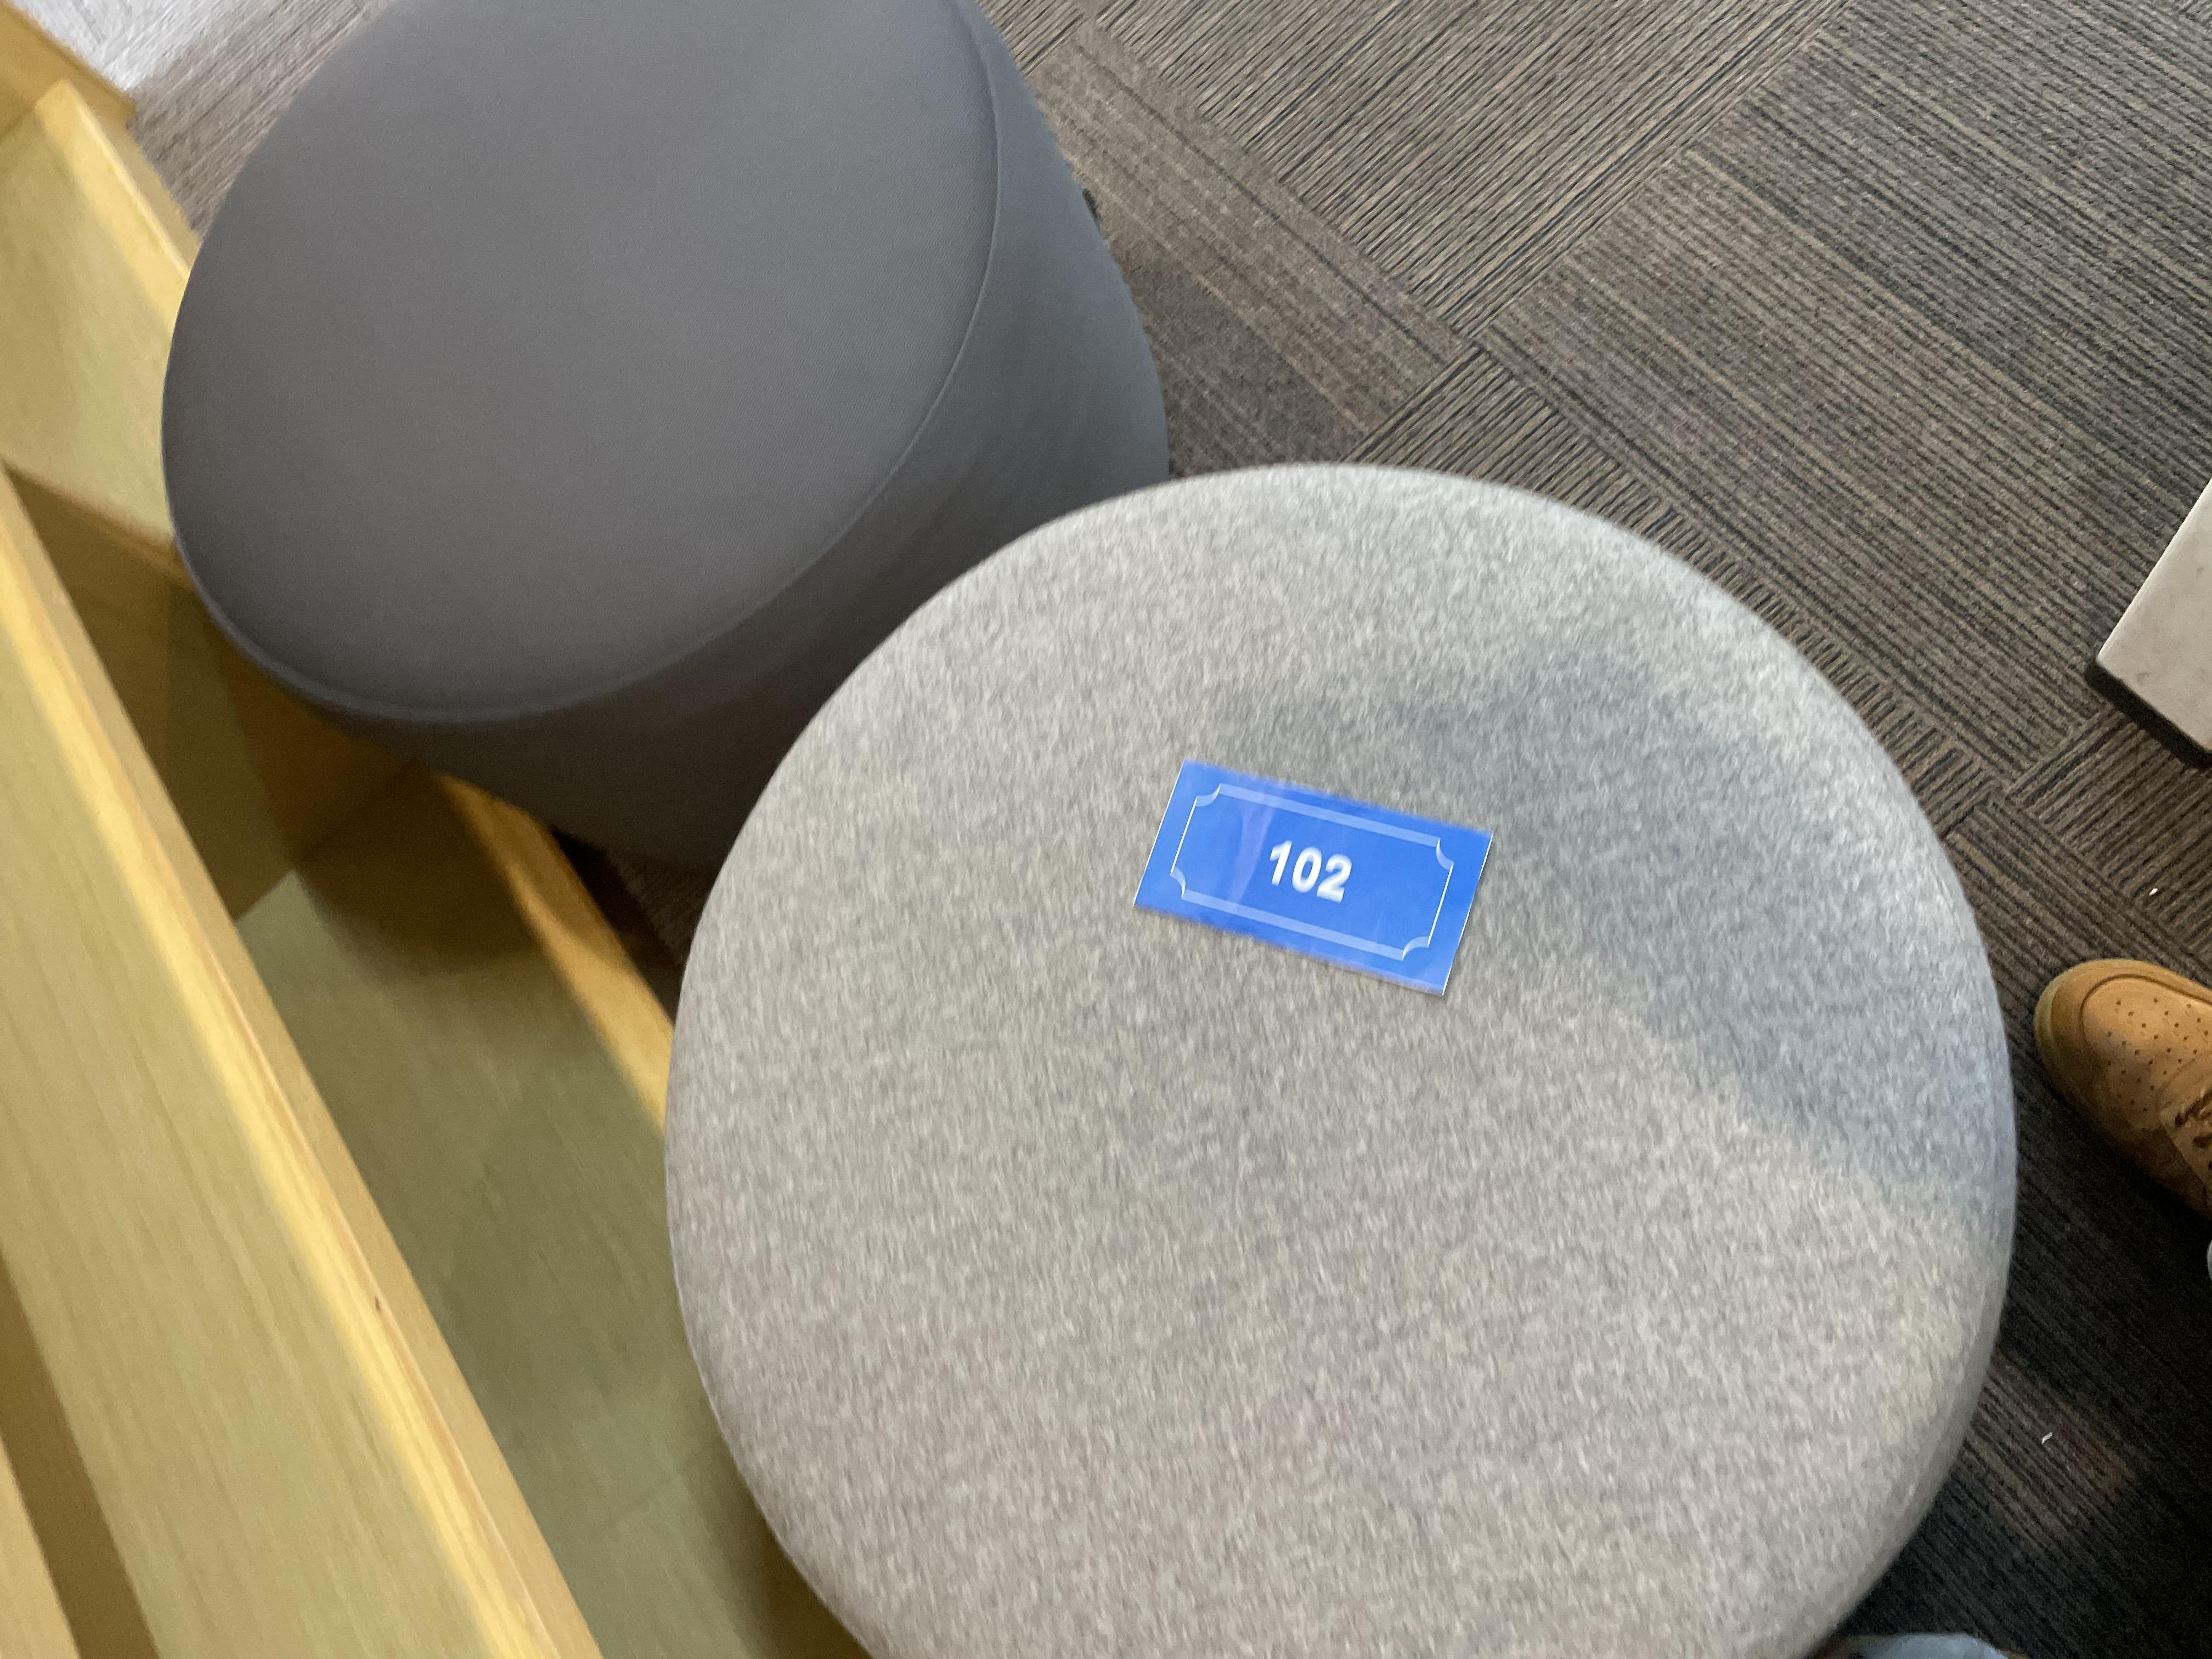Card: (1115, 739, 1507, 1009)
